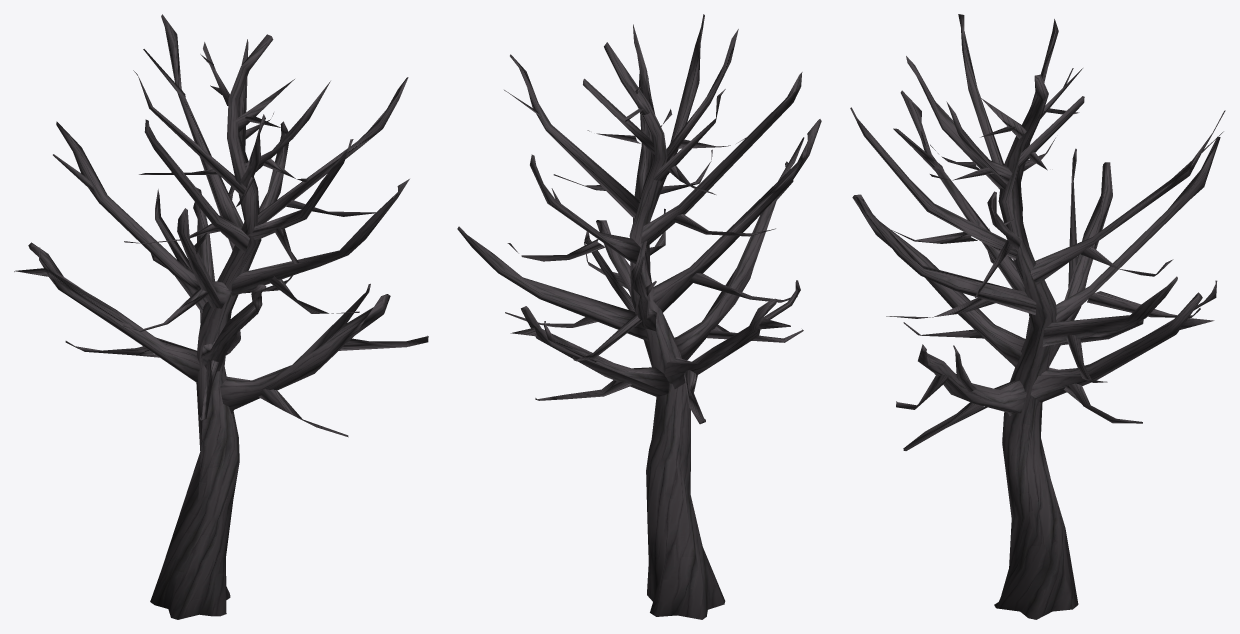
File: dead_tree_free_model_b_b_lo.glb
The picture shows the model from 3 angles, left to right: view 1: azimuth 30°, elevation 25°; view 2: azimuth 150°, elevation 25°; view 3: azimuth 270°, elevation 25°; orthographic projection. The views are drawn at different scales.
Visible parts, largest first — view 1: DeadTree_1; view 2: DeadTree_1; view 3: DeadTree_1.
Boxes of the visible parts, left/top/right/bottom form: DeadTree_1: left=14, top=14, right=428, bottom=619; DeadTree_1: left=457, top=14, right=821, bottom=619; DeadTree_1: left=850, top=14, right=1225, bottom=619.
Bounding box in the file's own units: 6.13 × 9.49 × 5.72.
Materials: 1 (1 with a texture image).
